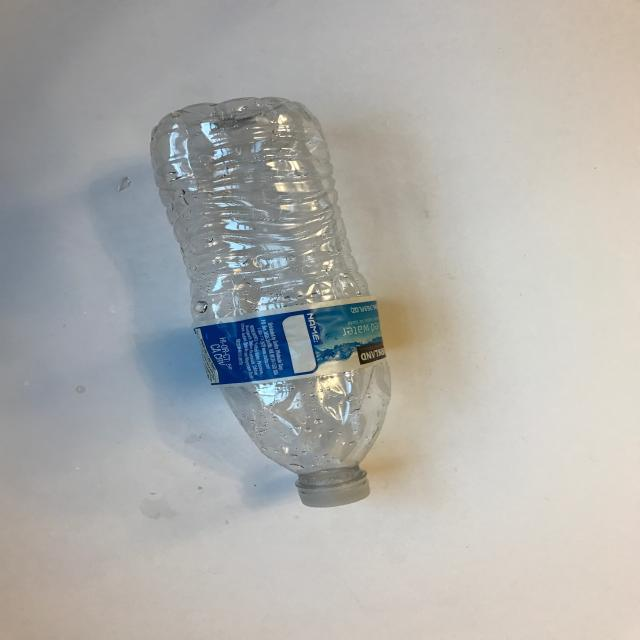plastic: (151, 94, 397, 510)
